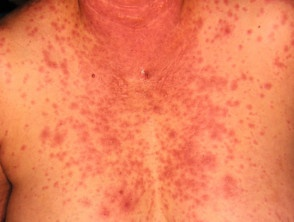SJS-TEN: (37, 0, 280, 222)
